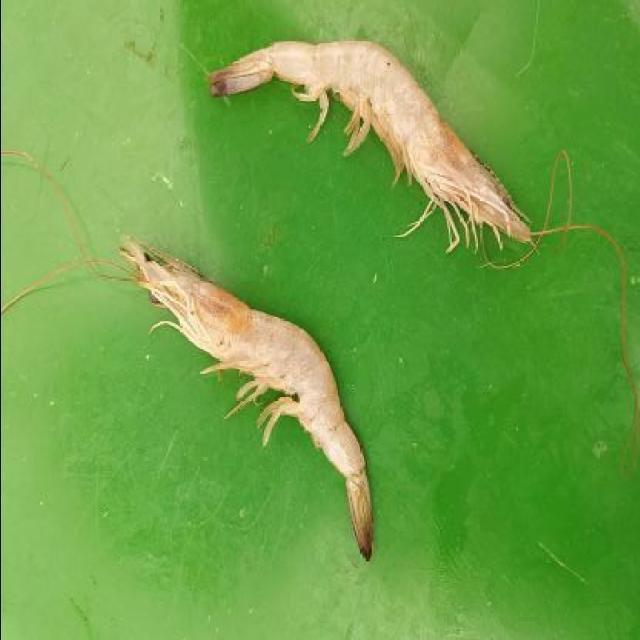shrimp: (121, 227, 385, 571), (204, 33, 551, 251)
